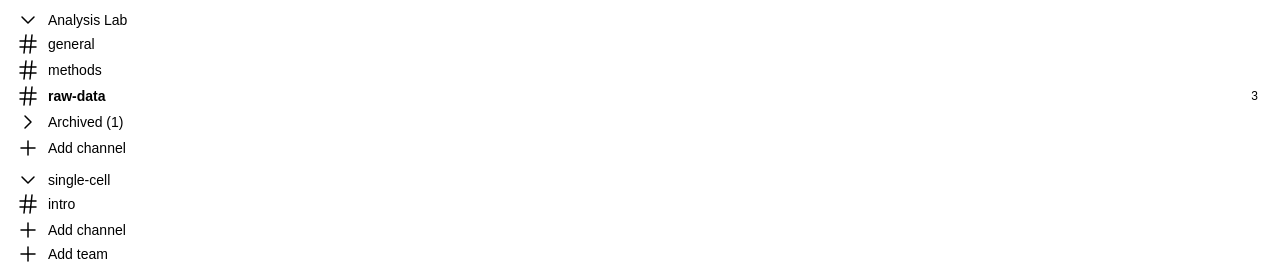
Scenario: team sections › collapses instantly — the rows go in the same render — and only the chevron turns
The width and height of the screenshot is (1280, 279).
Check: the button "general" is shown, box [8,32,1272,56]
Click the button with aria-label "Analysis Lab, 4 channels": (88, 20) [8,8,1218,32]
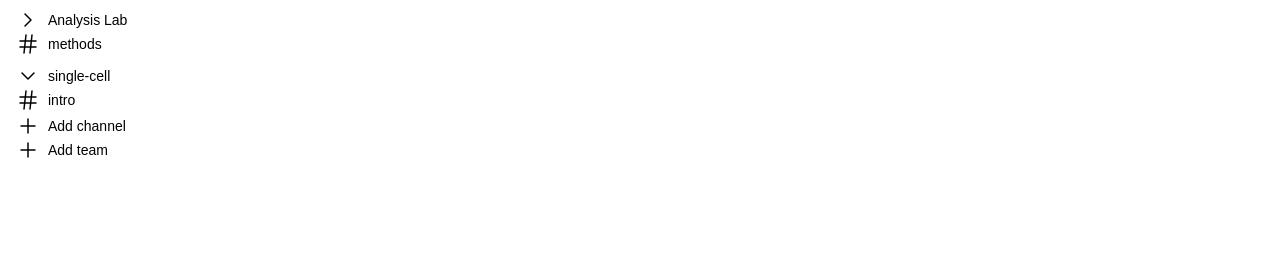
Check: the button with aria-label "Analysis Lab, 4 channels" is collapsed
Check: the button "general" is gone
Click the button with aria-label "Analysis Lab, 4 channels": (88, 20) [8,8,1218,32]
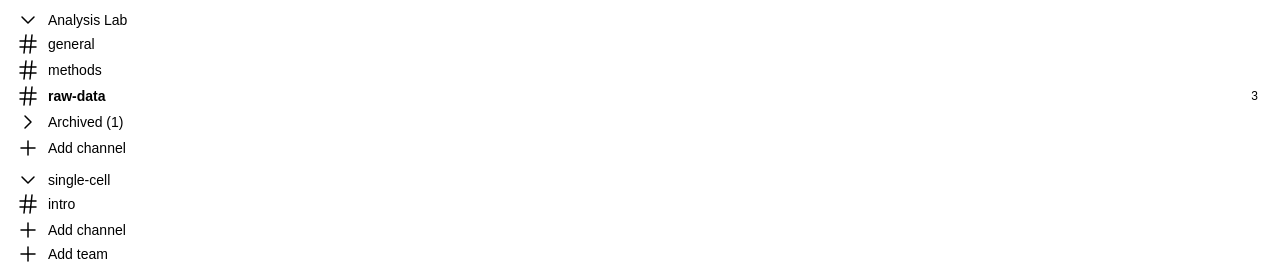
Check: the button with aria-label "Analysis Lab, 4 channels" is expanded, box [8,8,1218,32]
Check: the button "general" is shown, box [8,32,1272,56]
